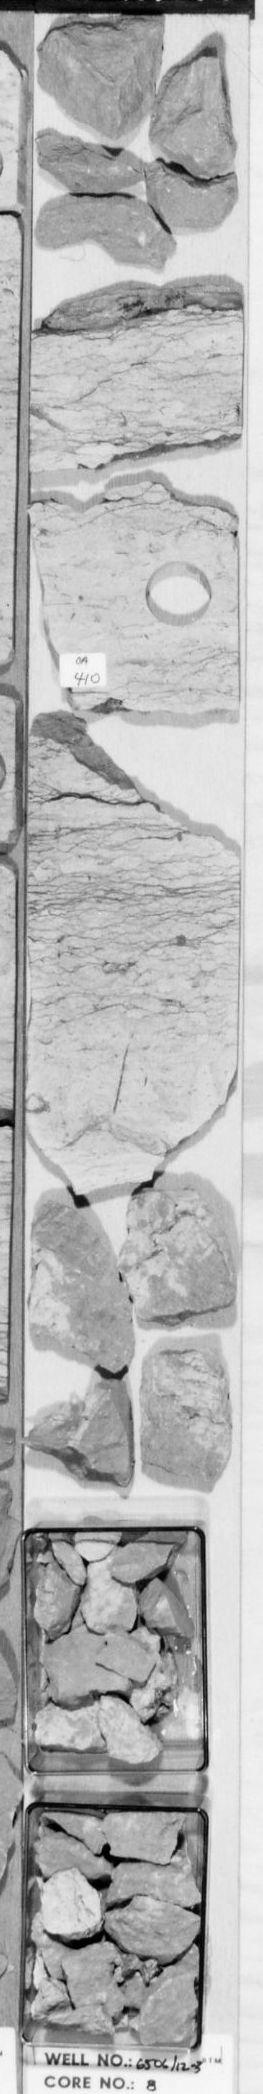hplug: (129, 552, 219, 638)
